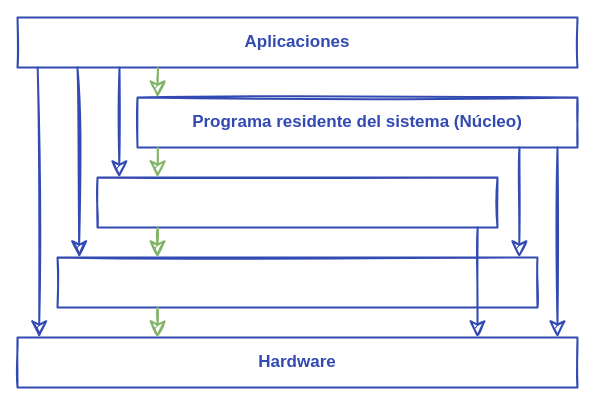
The diagram is 594 pixels wide and 404 high, and some of its shapes have lost their labels. The centre of each missing label's shape, as x and y in pixels:
"Controladores de dispositivos de la BIOS" goes at (x=297, y=282).
"Controladores de dispositivos de MSDOS" goes at (x=297, y=202).
